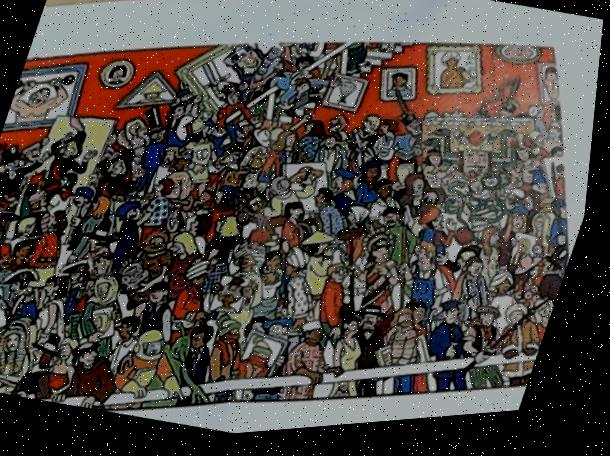waldo: (87, 246, 128, 285)
